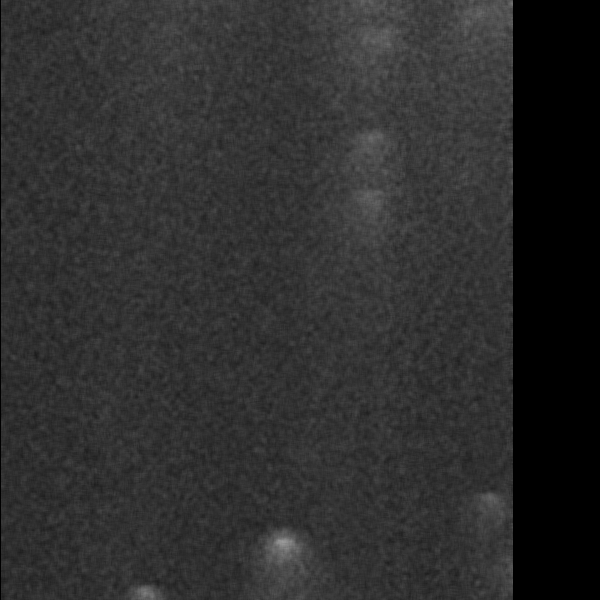spark: (4, 502, 49, 579)
